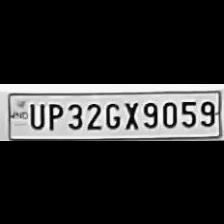0: (160, 98, 178, 128)
2: (84, 98, 103, 130)
3: (64, 100, 82, 130)
5: (178, 96, 196, 128)
9: (140, 97, 160, 128), (198, 97, 218, 127)
G: (103, 100, 121, 128)
P: (44, 99, 64, 130)
U: (26, 100, 44, 128)
X: (120, 98, 140, 130)
